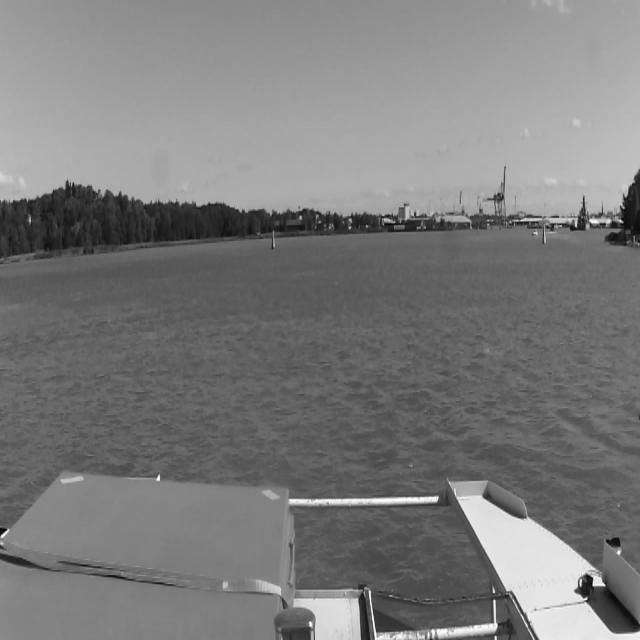buoy: (271, 229, 276, 250), (542, 222, 546, 245)
ship: (532, 228, 538, 238)
